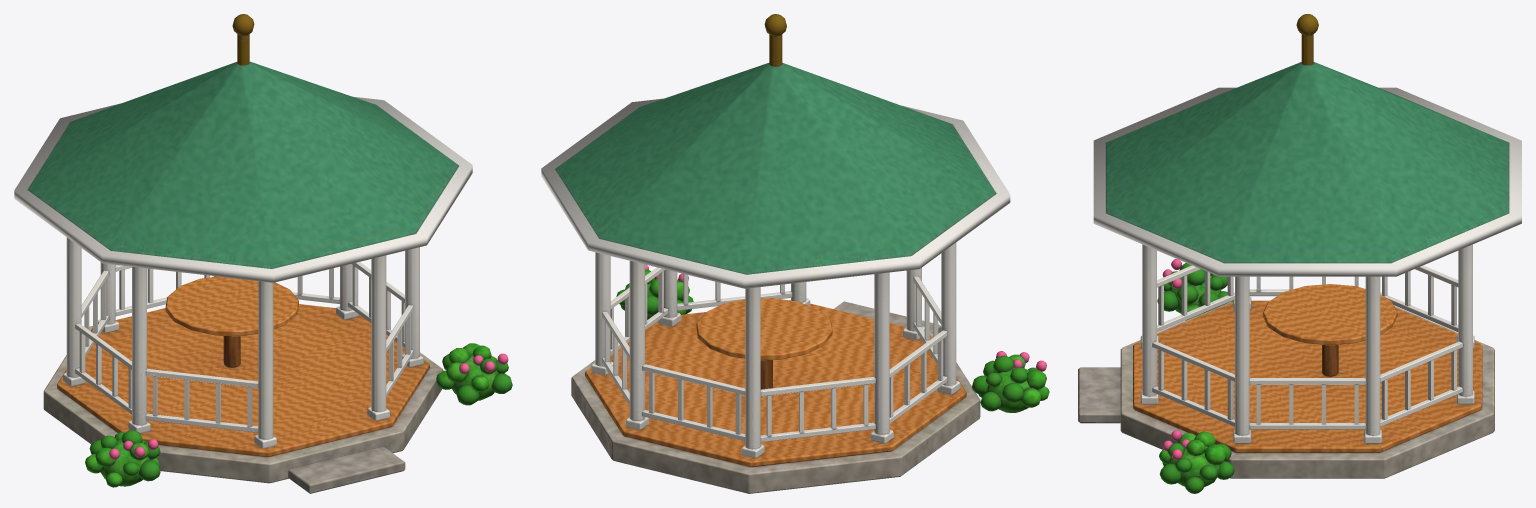
The model's file is gazebo.glb.
3 renders of one model, left to right at view 1: azimuth 30°, elevation 25°; view 2: azimuth 150°, elevation 25°; view 3: azimuth 270°, elevation 25°, orthographic. The views are drawn at different scales.
Parts seen in each view (by area): view 1: gazebo; view 2: gazebo; view 3: gazebo.
Boxes of the visible parts, left/top/right/bottom form: gazebo: left=14, top=14, right=512, bottom=493; gazebo: left=541, top=14, right=1049, bottom=493; gazebo: left=1078, top=14, right=1521, bottom=493.
Size of the model in its own units: 2.14 by 1.89 by 1.97.
Materials: 1 (1 with a texture image).
